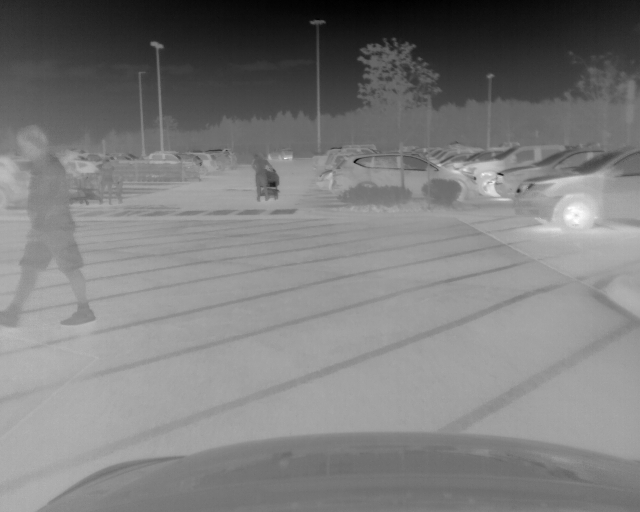car: (511, 145, 640, 231), (331, 152, 479, 203), (494, 149, 613, 198), (463, 145, 563, 197), (1, 156, 34, 209), (147, 151, 199, 177), (65, 162, 100, 196), (196, 152, 218, 178), (216, 150, 238, 171), (265, 148, 295, 162)
people: (1, 122, 99, 327), (250, 150, 275, 203), (96, 157, 112, 203), (112, 157, 125, 204)
